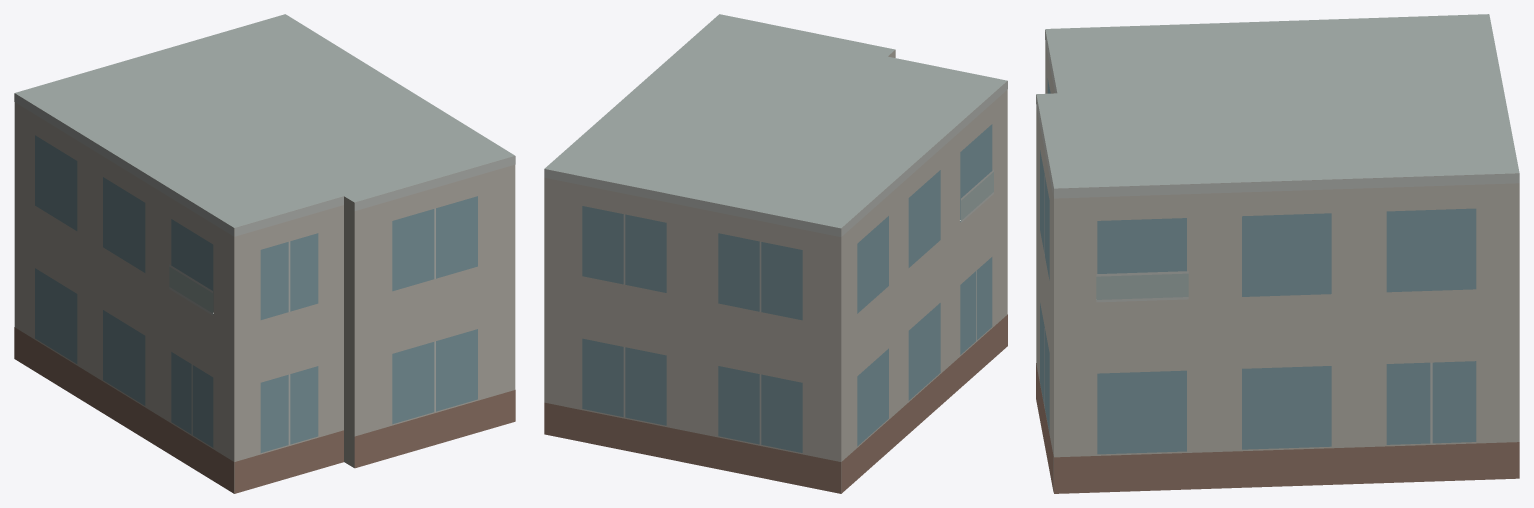
Rendered from survey-upis-32750142.glb.
3 views of the same model, side by side, from view 1: azimuth 30°, elevation 25°; view 2: azimuth 150°, elevation 25°; view 3: azimuth 270°, elevation 25° (orthographic). The views are drawn at different scales.
Parts seen in each view (by area): view 1: survey-upis-32750142.tmp; view 2: survey-upis-32750142.tmp; view 3: survey-upis-32750142.tmp.
Part boxes in pixels (x1=…): survey-upis-32750142.tmp: x1=14, y1=14, x2=515, y2=493; survey-upis-32750142.tmp: x1=544, y1=14, x2=1007, y2=493; survey-upis-32750142.tmp: x1=1036, y1=14, x2=1519, y2=493.
Bounding box in the file's own units: 9.09 × 7.4 × 10.63.
